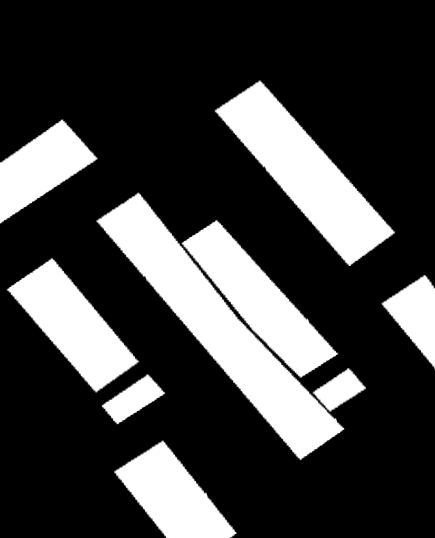parkingspot: (96, 193, 366, 460), (215, 81, 395, 266), (182, 220, 338, 378), (7, 258, 139, 392), (114, 441, 237, 538), (0, 120, 97, 223), (382, 275, 435, 369), (102, 374, 165, 424)
